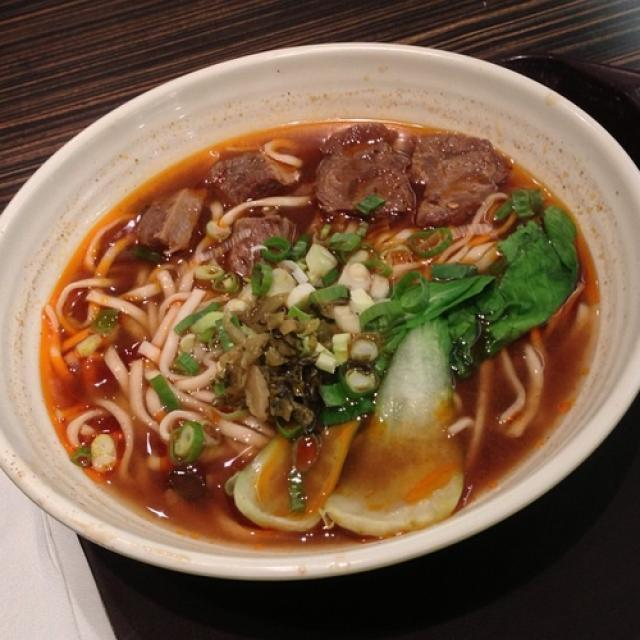面条主食: (26, 80, 608, 572)
